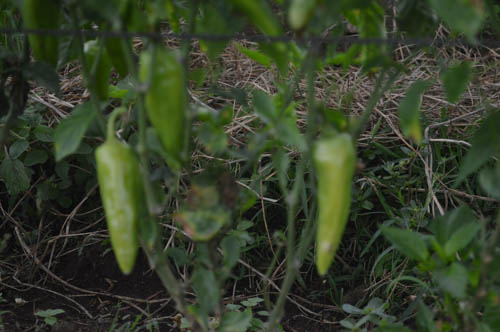ChiliPepper: (94, 145, 145, 275), (310, 136, 353, 276), (142, 54, 187, 151)
